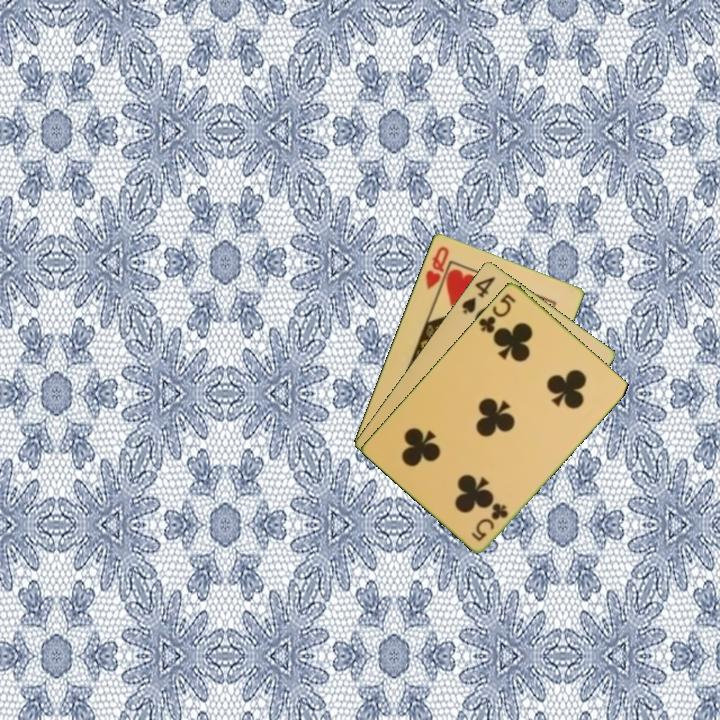4s: (458, 272, 498, 317)
5c: (475, 290, 519, 337), (468, 499, 511, 544)
Qh: (422, 242, 451, 292)
